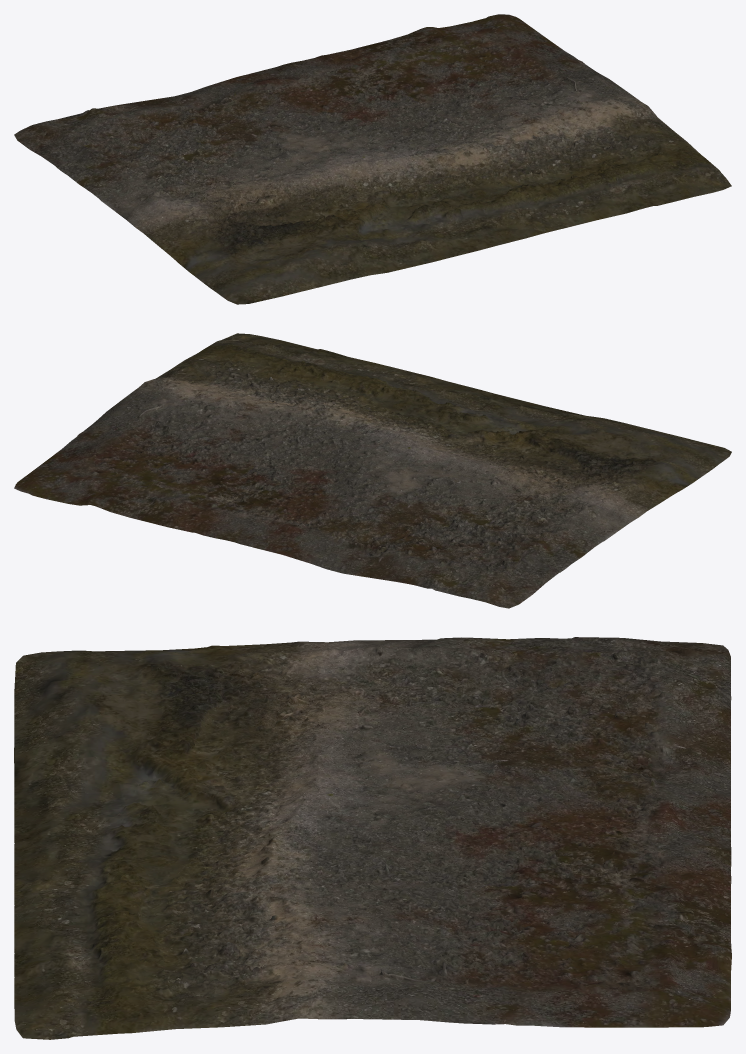
The model's file is coast_line_01.glb.
3 renders of one model, top to bottom at view 1: azimuth 30°, elevation 25°; view 2: azimuth 150°, elevation 25°; view 3: azimuth 270°, elevation 25°, orthographic. The views are drawn at different scales.
Parts seen in each view (by area): view 1: coast_line_01; view 2: coast_line_01; view 3: coast_line_01.
Part boxes in pixels (x1=…): coast_line_01: x1=14, y1=14, x2=731, y2=304; coast_line_01: x1=14, y1=333, x2=731, y2=608; coast_line_01: x1=14, y1=637, x2=731, y2=1039.
Bounding box in the file's own units: 54.61 × 2.61 × 42.97.
Materials: 1 (1 with a texture image).
